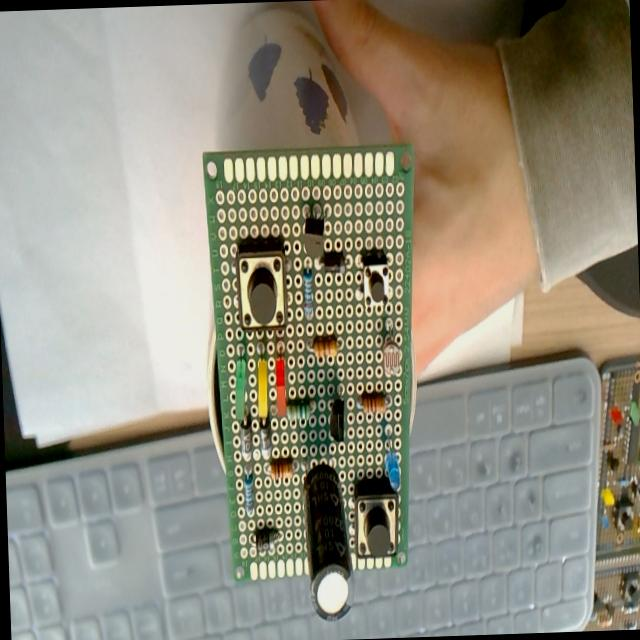Electrolytic capacitor: (299, 452, 356, 622)
cds: (376, 314, 403, 382)
diode: (316, 248, 356, 280), (245, 528, 284, 558), (254, 411, 274, 461), (237, 406, 253, 465)
led: (380, 423, 404, 495), (230, 342, 248, 422), (272, 349, 290, 419), (254, 344, 270, 421)
resistor: (352, 391, 396, 418), (302, 334, 343, 362), (299, 264, 315, 322), (261, 459, 298, 481), (285, 402, 318, 426)
switch: (228, 234, 290, 334), (350, 476, 406, 568), (358, 251, 392, 309)
transistor: (298, 202, 330, 262), (324, 376, 351, 446)
